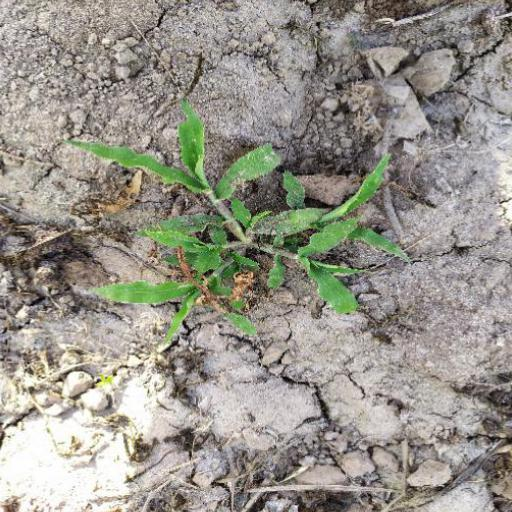weed: (64, 103, 404, 359)
